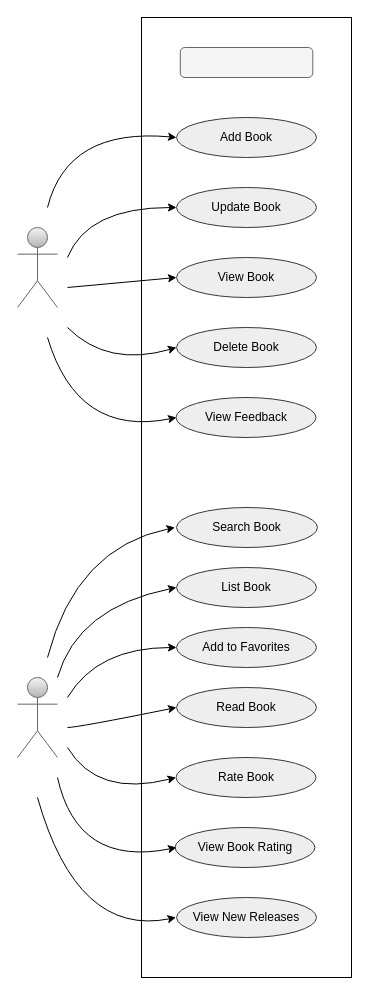
Image size: 369x995. Some labels were removed from this diagram. Each missing label, with the box of its shape:
Admin: (16, 226, 58, 308)
Online Book Store: (179, 46, 313, 78)
User: (16, 676, 58, 758)
